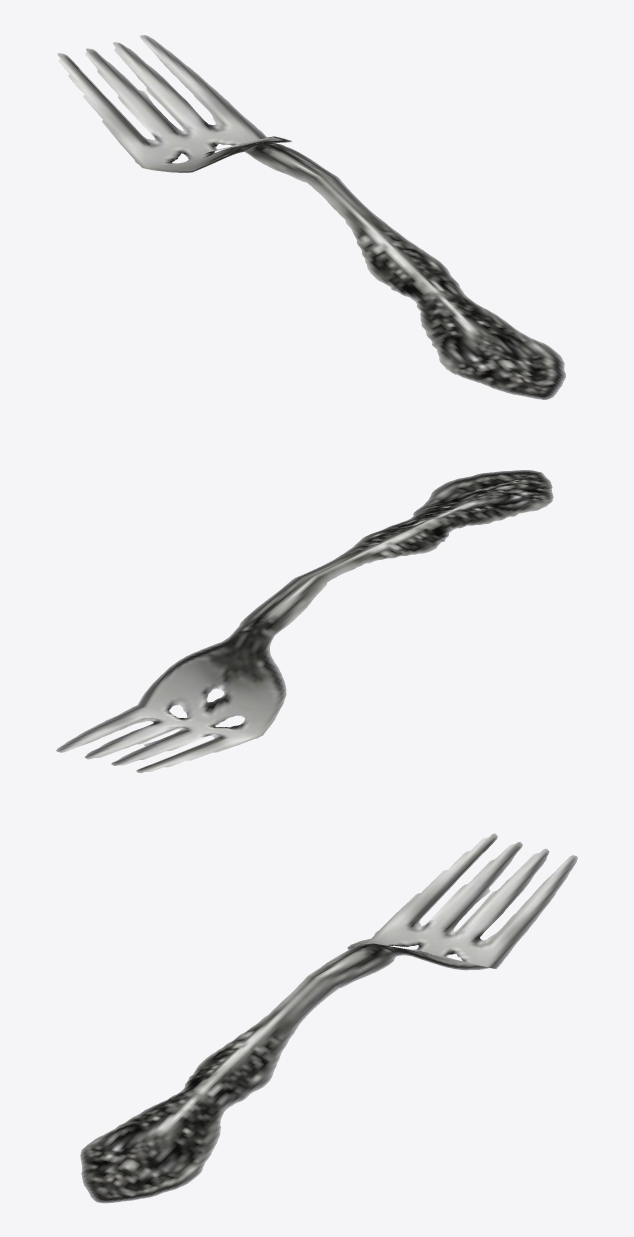
Rendered from Fork_Salad.fbx.
3 views of the same model, one above another, from view 1: azimuth 30°, elevation 25°; view 2: azimuth 150°, elevation 25°; view 3: azimuth 330°, elevation 25° (orthographic).
Visible parts, largest first — view 1: Fork_Salad_LOD0; view 2: Fork_Salad_LOD0; view 3: Fork_Salad_LOD0.
Part boxes in pixels (x1=…): Fork_Salad_LOD0: x1=57, y1=35, x2=565, y2=399; Fork_Salad_LOD0: x1=56, y1=470, x2=553, y2=772; Fork_Salad_LOD0: x1=80, y1=833, x2=577, y2=1203.
Size of what is drawn, in the model's own units: 8.61 by 3.36 by 46.2.
